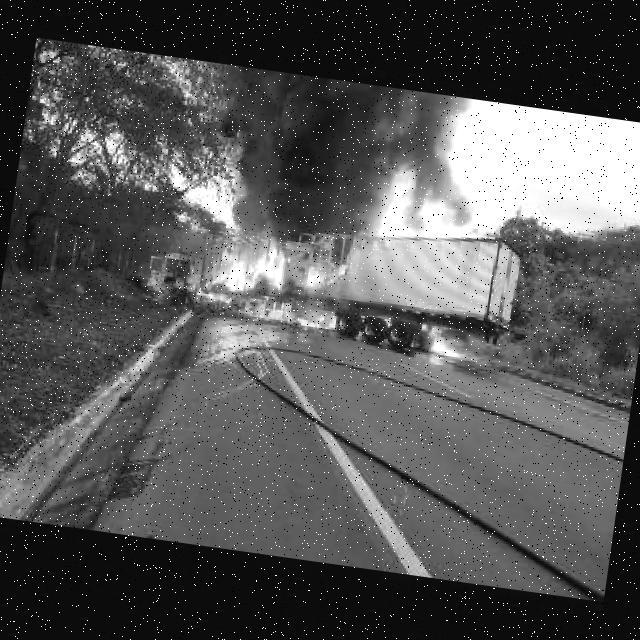Fire: (375, 168, 460, 246), (207, 243, 291, 299), (268, 301, 336, 330), (425, 327, 464, 358), (305, 266, 328, 289), (336, 262, 348, 277), (196, 291, 215, 299)
Smoke: (200, 70, 428, 244)
